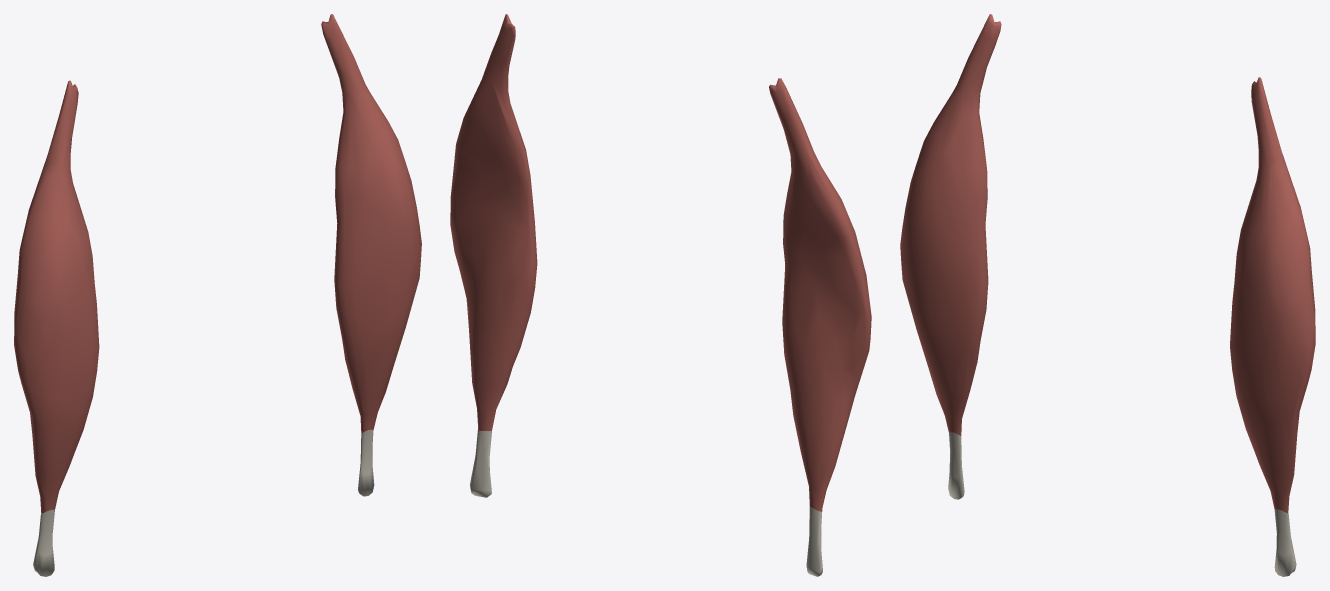
Rendered from adult_female.muscular.LOD3.glb.
3 renders of one model, left to right at view 1: azimuth 30°, elevation 25°; view 2: azimuth 150°, elevation 25°; view 3: azimuth 330°, elevation 25°, orthographic. The views are drawn at different scales.
Parts seen in each view (by area): view 1: ADULT.FEMALE.MUSCULAR.RECTUS_FEMORIS.L, ADULT.FEMALE.MUSCULAR.RECTUS_FEMORIS.R, ADULT.FEMALE.MUSCULAR.TENDON_OF_QUADRICEPS_FEMORIS.R, ADULT.FEMALE.MUSCULAR.TENDON_OF_QUADRICEPS_FEMORIS.L; view 2: ADULT.FEMALE.MUSCULAR.RECTUS_FEMORIS.R, ADULT.FEMALE.MUSCULAR.RECTUS_FEMORIS.L, ADULT.FEMALE.MUSCULAR.TENDON_OF_QUADRICEPS_FEMORIS.L, ADULT.FEMALE.MUSCULAR.TENDON_OF_QUADRICEPS_FEMORIS.R; view 3: ADULT.FEMALE.MUSCULAR.RECTUS_FEMORIS.R, ADULT.FEMALE.MUSCULAR.RECTUS_FEMORIS.L, ADULT.FEMALE.MUSCULAR.TENDON_OF_QUADRICEPS_FEMORIS.L, ADULT.FEMALE.MUSCULAR.TENDON_OF_QUADRICEPS_FEMORIS.R.
Part boxes in pixels (box(x1,y1,x2,y2)): ADULT.FEMALE.MUSCULAR.RECTUS_FEMORIS.L: box(321, 14, 421, 432); ADULT.FEMALE.MUSCULAR.RECTUS_FEMORIS.R: box(14, 80, 99, 513); ADULT.FEMALE.MUSCULAR.TENDON_OF_QUADRICEPS_FEMORIS.R: box(33, 509, 54, 576); ADULT.FEMALE.MUSCULAR.TENDON_OF_QUADRICEPS_FEMORIS.L: box(358, 429, 374, 496); ADULT.FEMALE.MUSCULAR.RECTUS_FEMORIS.R: box(769, 78, 871, 511); ADULT.FEMALE.MUSCULAR.RECTUS_FEMORIS.L: box(450, 14, 537, 430); ADULT.FEMALE.MUSCULAR.TENDON_OF_QUADRICEPS_FEMORIS.L: box(470, 430, 491, 497); ADULT.FEMALE.MUSCULAR.TENDON_OF_QUADRICEPS_FEMORIS.R: box(806, 506, 822, 576); ADULT.FEMALE.MUSCULAR.RECTUS_FEMORIS.R: box(900, 14, 1001, 435); ADULT.FEMALE.MUSCULAR.RECTUS_FEMORIS.L: box(1230, 77, 1315, 513); ADULT.FEMALE.MUSCULAR.TENDON_OF_QUADRICEPS_FEMORIS.L: box(1274, 509, 1296, 576); ADULT.FEMALE.MUSCULAR.TENDON_OF_QUADRICEPS_FEMORIS.R: box(948, 432, 964, 499).
Size of the model in its own units: 0.3557 by 0.4035 by 0.0507.
